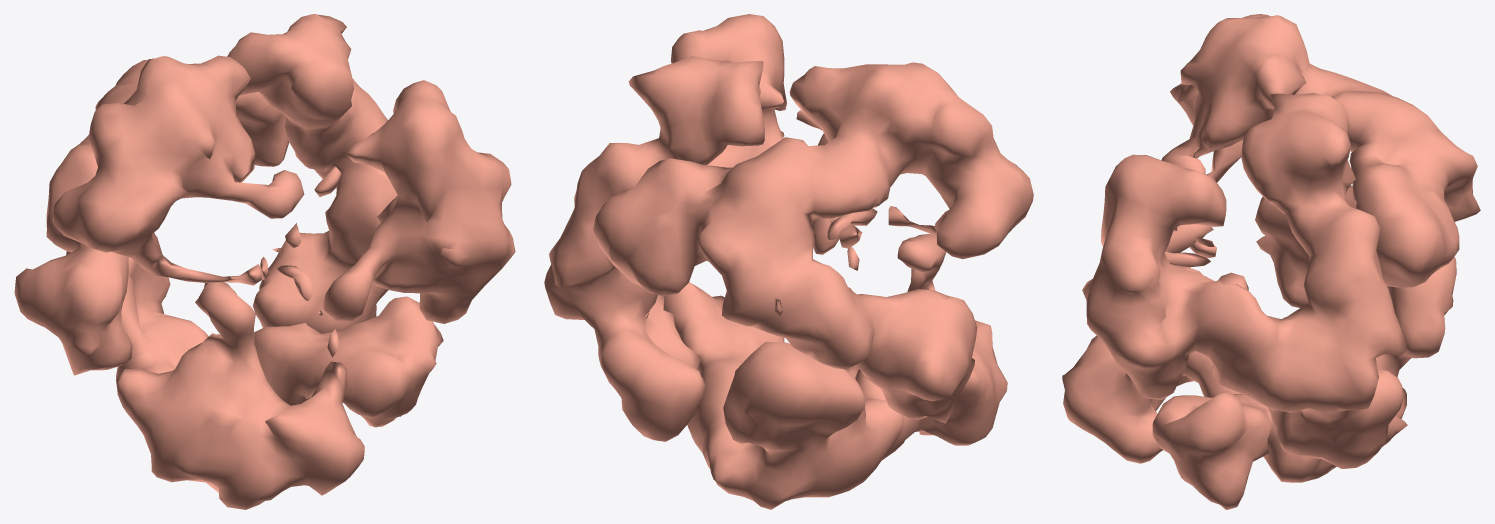
3 renders of one model, left to right at view 1: azimuth 30°, elevation 25°; view 2: azimuth 150°, elevation 25°; view 3: azimuth 270°, elevation 25°, orthographic. The views are drawn at different scales.
Visible parts, largest first — view 1: 4b3y_surfaces_1.B, 4b3y_surfaces_1.A, 4b3y_surfaces_1.C; view 2: 4b3y_surfaces_1.C, 4b3y_surfaces_1.B, 4b3y_surfaces_1.A; view 3: 4b3y_surfaces_1.B, 4b3y_surfaces_1.C, 4b3y_surfaces_1.A.
Boxes of the visible parts, x1,y1,x2,y2 form: 4b3y_surfaces_1.B: [227, 14, 515, 333]; 4b3y_surfaces_1.A: [66, 232, 443, 509]; 4b3y_surfaces_1.C: [14, 55, 304, 375]; 4b3y_surfaces_1.C: [593, 62, 1033, 423]; 4b3y_surfaces_1.B: [544, 14, 839, 441]; 4b3y_surfaces_1.A: [664, 208, 1007, 509]; 4b3y_surfaces_1.B: [1082, 93, 1407, 468]; 4b3y_surfaces_1.C: [1161, 14, 1480, 307]; 4b3y_surfaces_1.A: [1062, 224, 1456, 509].
Bounding box in the file's own units: 203 × 201 × 188.
